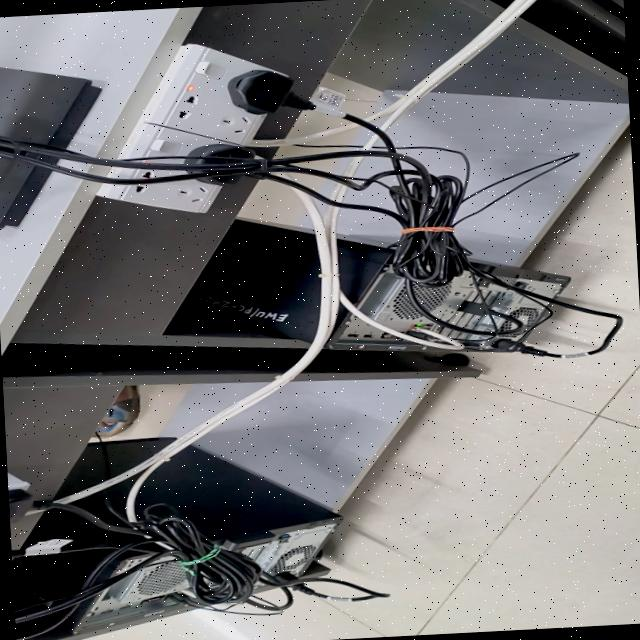Cpu: (12, 435, 342, 632), (177, 217, 574, 355)
